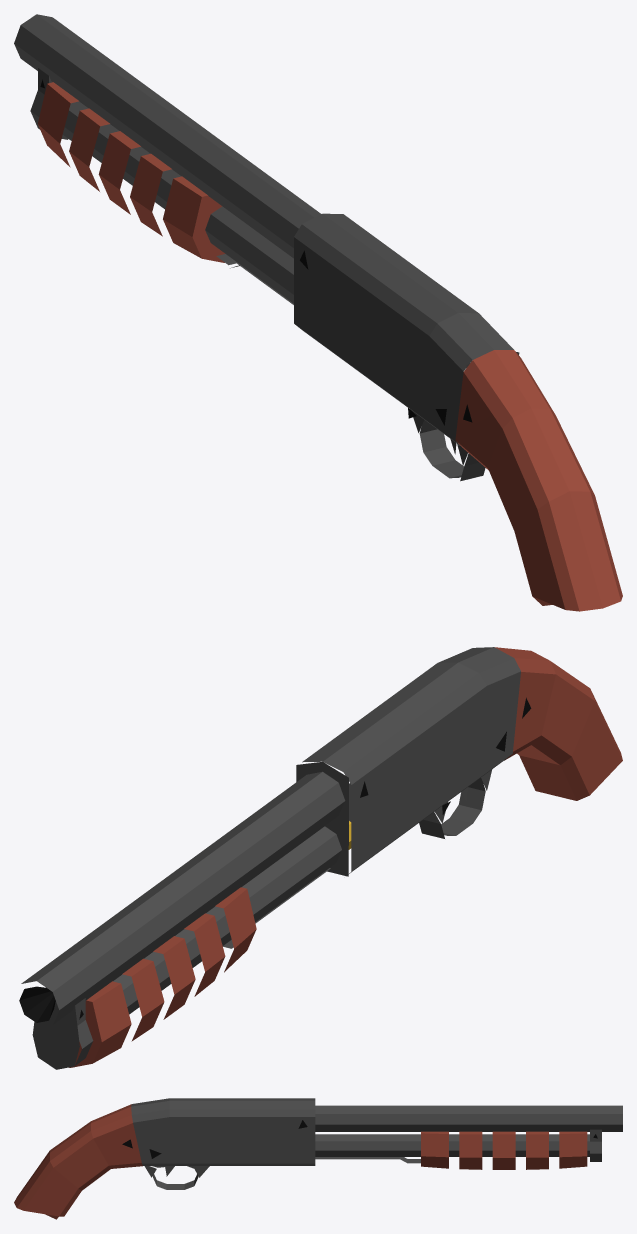
File: shotgun.lod1.glb
The picture shows the model from 3 angles, top to bottom: view 1: azimuth 30°, elevation 25°; view 2: azimuth 150°, elevation 25°; view 3: azimuth 270°, elevation 25°; orthographic projection. The views are drawn at different scales.
Parts seen in each view (by area): view 1: Shotgun_Pump_West; view 2: Shotgun_Pump_West; view 3: Shotgun_Pump_West.
Boxes of the visible parts, x1,y1,x2,y2 form: Shotgun_Pump_West: (14,14,622,611); Shotgun_Pump_West: (19,647,622,1069); Shotgun_Pump_West: (14,1098,622,1219).
Bounding box in the file's own units: 0.0461 × 0.1227 × 0.5966.
